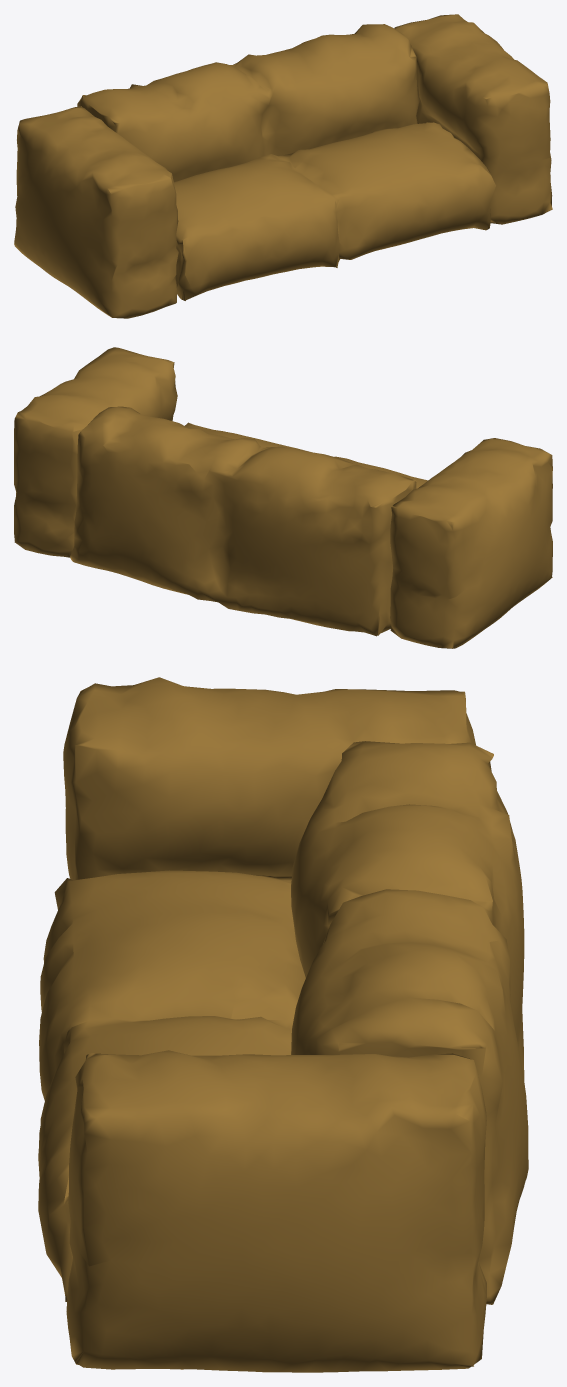
The model's file is Sofa_Low.fbx.
3 views of the same model, one above another, from view 1: azimuth 30°, elevation 25°; view 2: azimuth 150°, elevation 25°; view 3: azimuth 270°, elevation 25° (orthographic). The views are drawn at different scales.
Parts seen in each view (by area): view 1: Sofa_Low; view 2: Sofa_Low; view 3: Sofa_Low.
Part boxes in pixels (bbox=[...]): Sofa_Low: bbox=[14, 14, 552, 318]; Sofa_Low: bbox=[14, 347, 552, 648]; Sofa_Low: bbox=[38, 677, 528, 1372].
Bounding box in the file's own units: 184 × 53.3 × 82.01.
